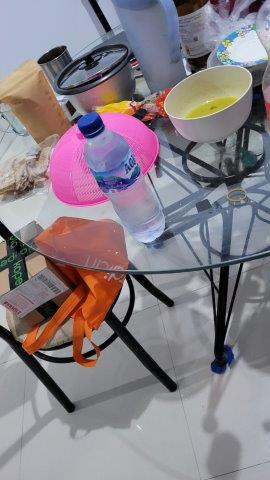botolplastik: (75, 114, 167, 243)
